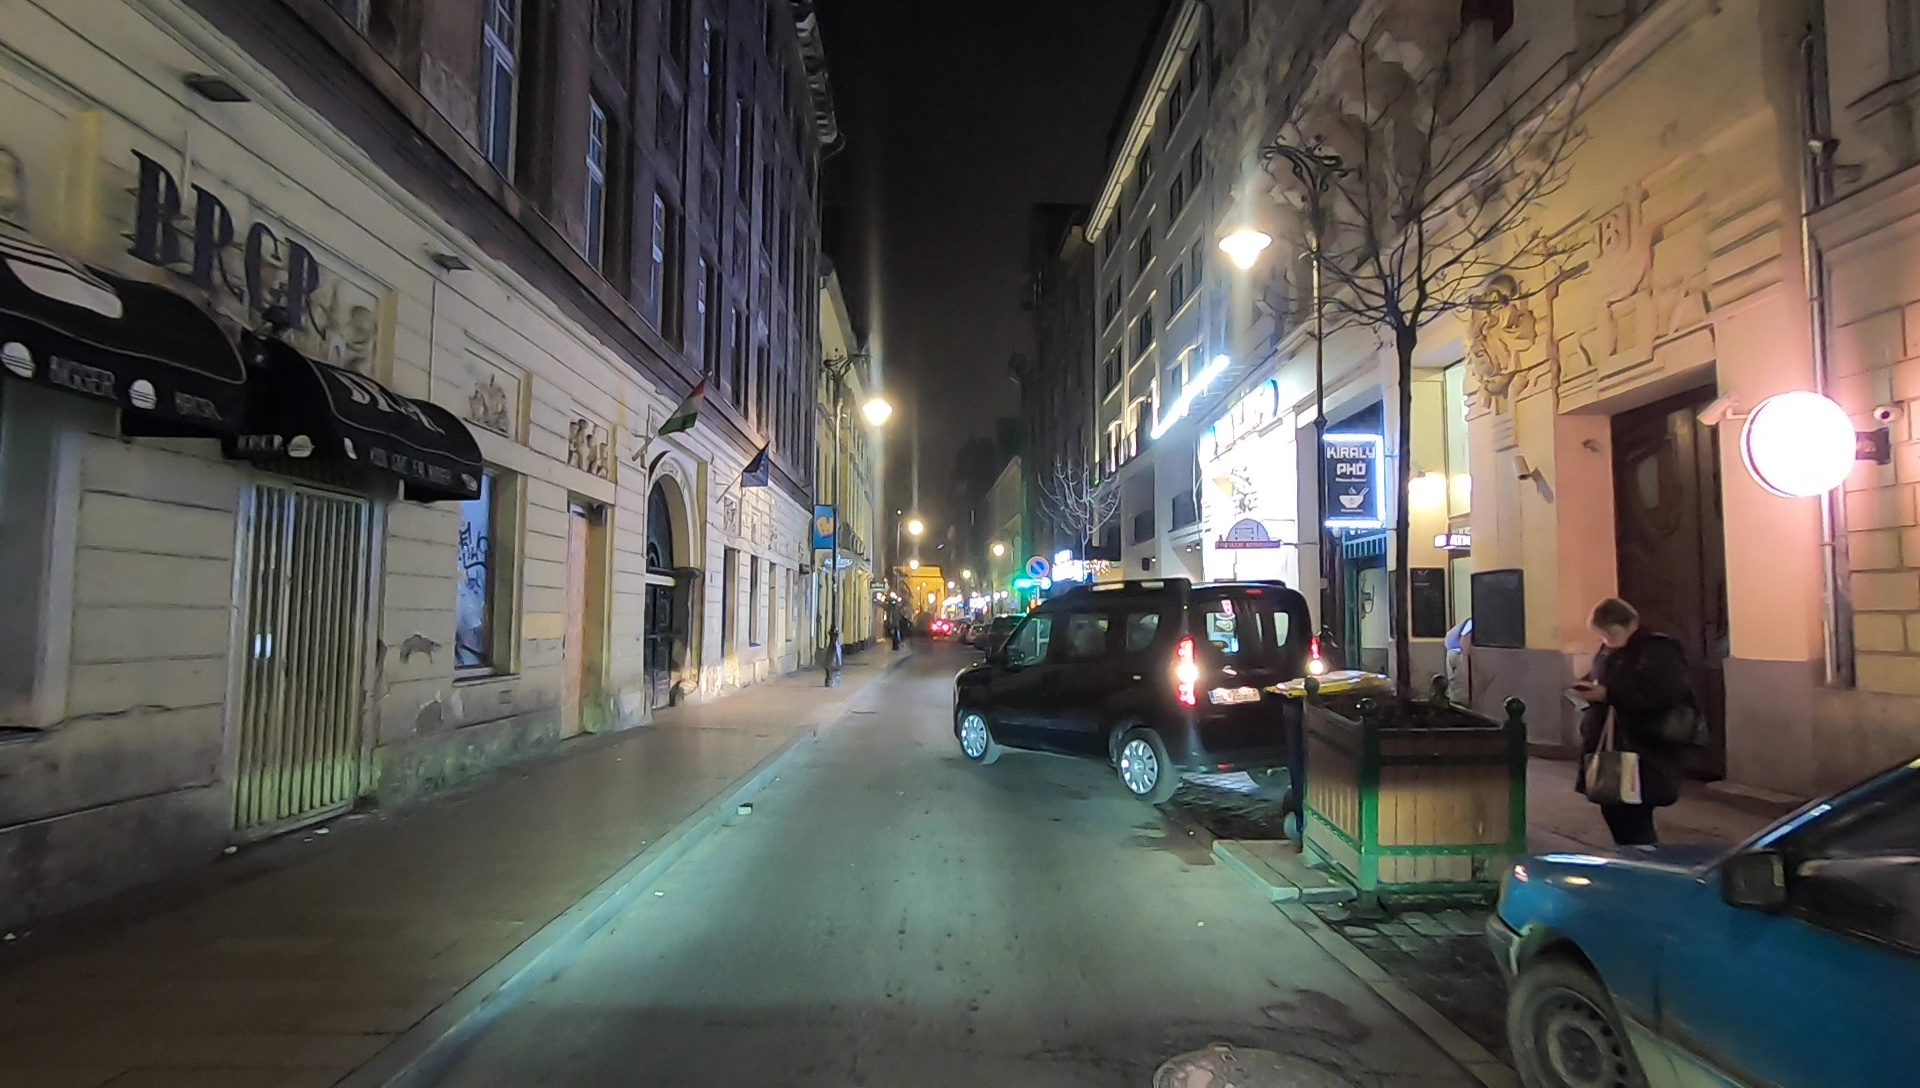person: (1564, 599, 1699, 891)
